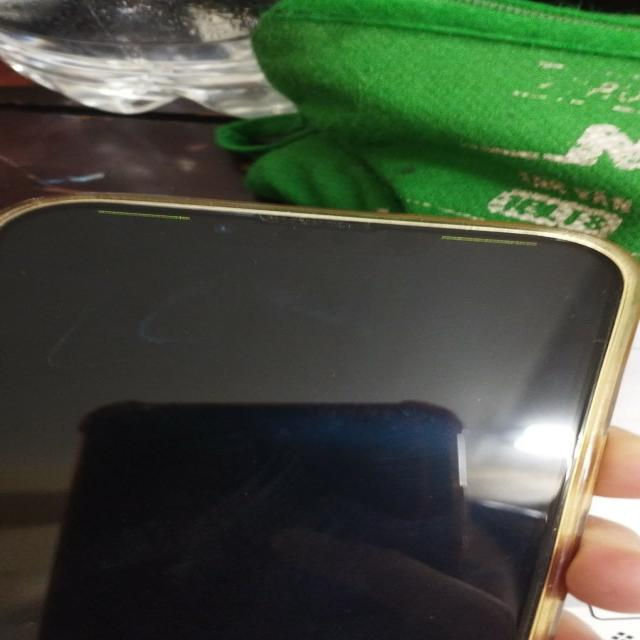gen_12_13: (0, 190, 640, 640)
scratch: (41, 276, 229, 372)
screen_defect: (437, 230, 543, 255), (85, 205, 200, 228)
